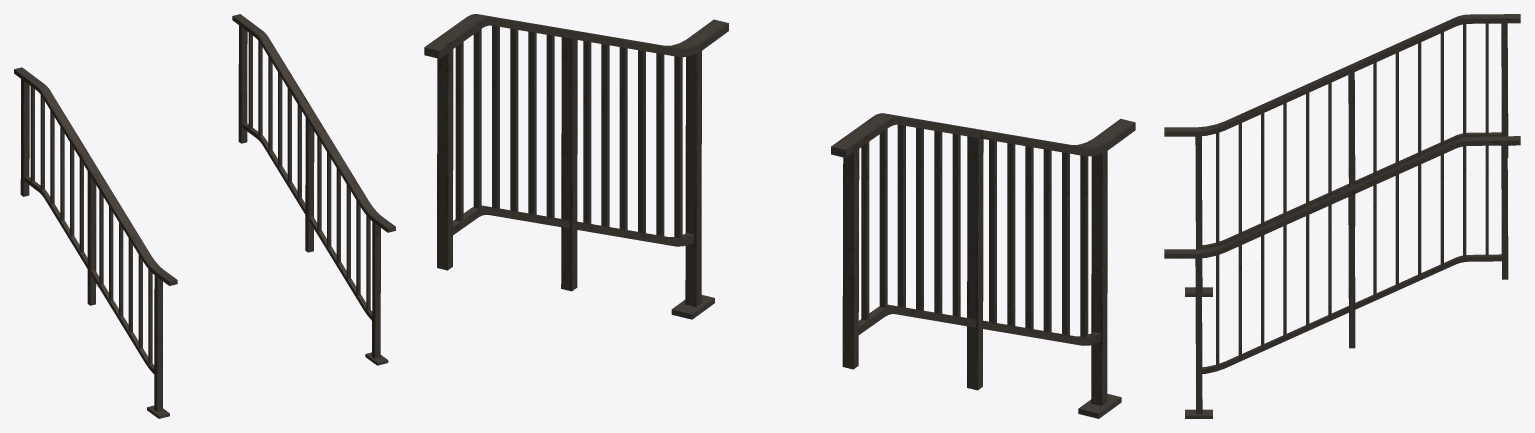
Rendered from stairs_rails_metal.glb.
The picture shows the model from 3 angles, left to right: view 1: azimuth 30°, elevation 25°; view 2: azimuth 150°, elevation 25°; view 3: azimuth 270°, elevation 25°; orthographic projection. The views are drawn at different scales.
Visible parts, largest first — view 1: Stairs_Rails_Metal; view 2: Stairs_Rails_Metal; view 3: Stairs_Rails_Metal.
Part boxes in pixels (x1,y1,x2,y2): Stairs_Rails_Metal: (14,14,395,418); Stairs_Rails_Metal: (424,14,1135,418); Stairs_Rails_Metal: (1164,14,1520,418).
Size of the model in its own units: 1.96 by 1.98 by 2.31.
1 material, 1 textured.
